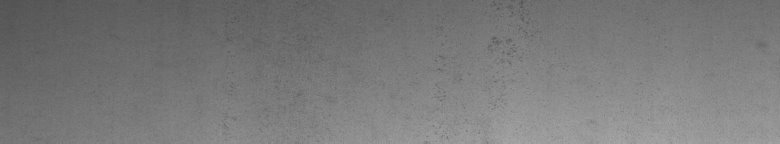ib: (436, 4, 533, 84)
